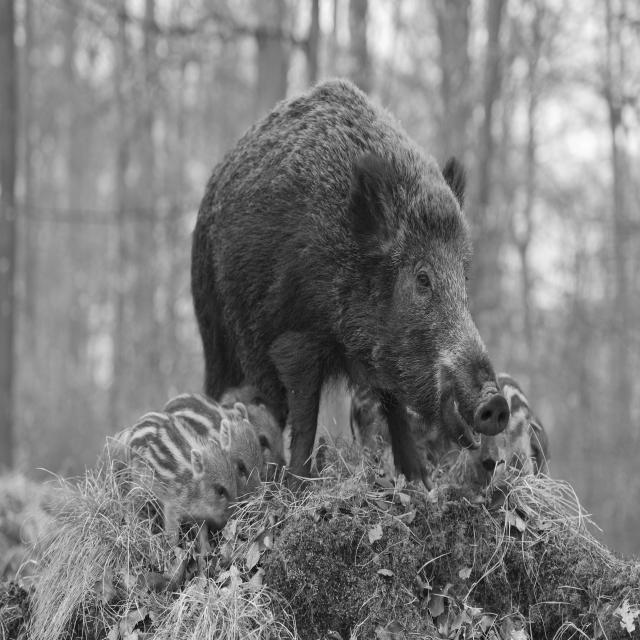boar: (191, 79, 509, 492), (96, 412, 237, 554), (163, 393, 263, 499)
